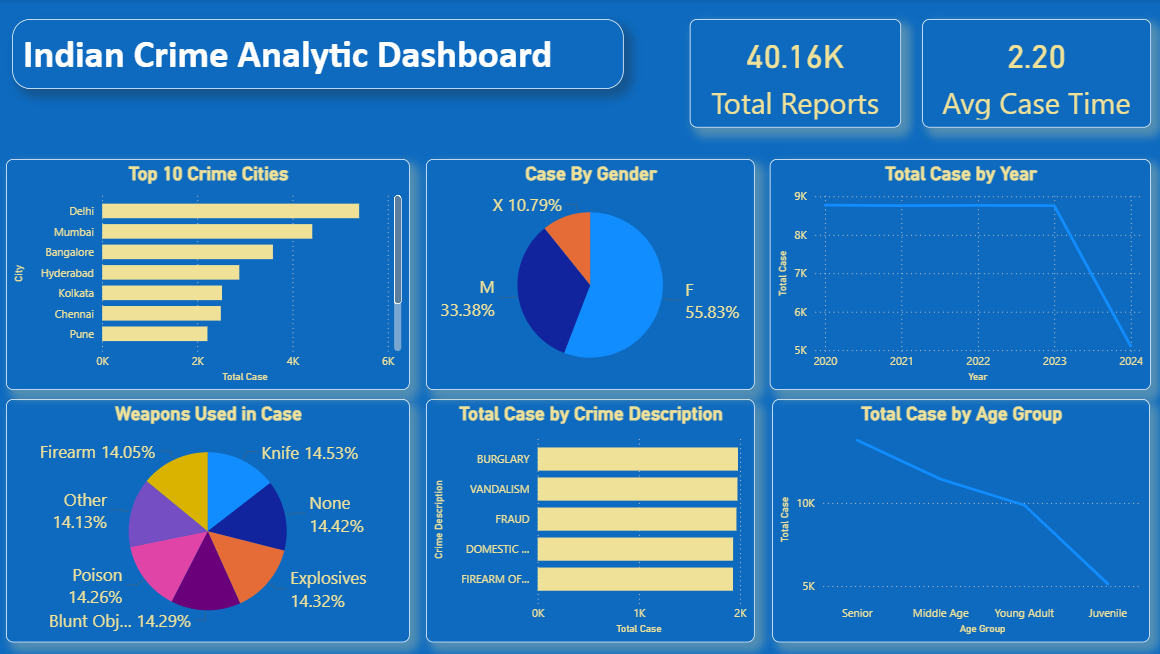

The dashboard page shown, as its layout file describes it:
{"tool":"powerbi","page":{"name":"Page 1","canvas":[1280,720],"ordinal":0},"visuals":[{"type":"card","fields":{"Values":["CountNonNull(crime_dataset_india.Report Number)"]},"box":[761.6,22,231.9,119.4],"z":0},{"type":"barChart","title":"Top 10 Crime Cities","fields":{"Category":["crime_dataset_india.City"],"Y":["crime_dataset_india.Total Case"]},"box":[11,175.6,443.2,253.9],"z":2000},{"type":"barChart","fields":{"Category":["crime_dataset_india.Crime Description"],"Y":["crime_dataset_india.Total Case"]},"box":[472,439.1,360.9,267.6],"z":3000},{"type":"lineChart","fields":{"Category":["crime_dataset_india.Year"],"Y":["crime_dataset_india.Total Case"]},"box":[849.4,175.6,418.5,253.9],"z":4000},{"type":"pieChart","title":"Weapons Used in Case","fields":{"Y":["crime_dataset_india.Total Case"],"Category":["crime_dataset_india.Weapon Used"]},"box":[11,439.1,443.2,267.6],"z":5000},{"type":"pieChart","title":"Case By Gender","fields":{"Category":["crime_dataset_india.Victim Gender"],"Y":["crime_dataset_india.Total Case"]},"box":[472,175.6,360.9,253.9],"z":6001},{"type":"card","fields":{"Values":["Avg(crime_dataset_india.Case Time)"]},"box":[1016.8,22,251.1,119.4],"z":6002},{"type":"lineChart","fields":{"Y":["crime_dataset_india.Total Case"],"Category":["crime_dataset_india.Age Group"]},"box":[852.1,439.1,414.4,267.6],"z":6003},{"type":"textbox","box":[17.8,22,671,76.8],"z":6004}]}

Visuals, with their boxes in screenshot pixels (x1, y1, x2, y2), scaled from the page's 1280x720 canvas onto the 1160x654 screenshot:
card - CountNonNull(crime_dataset_india.Report Number): {"x1": 690, "y1": 20, "x2": 900, "y2": 128}
"Top 10 Crime Cities" barChart: {"x1": 10, "y1": 160, "x2": 412, "y2": 390}
barChart - crime_dataset_india.Crime Description x crime_dataset_india.Total Case: {"x1": 428, "y1": 399, "x2": 755, "y2": 642}
lineChart - crime_dataset_india.Year x crime_dataset_india.Total Case: {"x1": 770, "y1": 160, "x2": 1149, "y2": 390}
"Weapons Used in Case" pieChart: {"x1": 10, "y1": 399, "x2": 412, "y2": 642}
"Case By Gender" pieChart: {"x1": 428, "y1": 160, "x2": 755, "y2": 390}
card - Avg(crime_dataset_india.Case Time): {"x1": 921, "y1": 20, "x2": 1149, "y2": 128}
lineChart - crime_dataset_india.Total Case x crime_dataset_india.Age Group: {"x1": 772, "y1": 399, "x2": 1148, "y2": 642}
textbox: {"x1": 16, "y1": 20, "x2": 624, "y2": 90}
